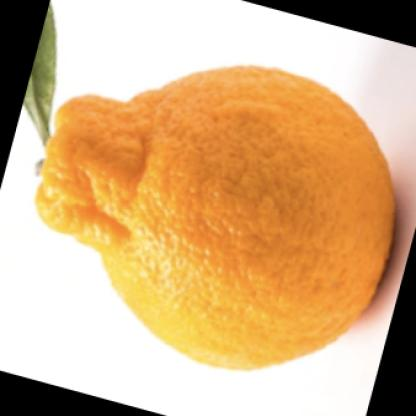fresh: (41, 66, 396, 373)
